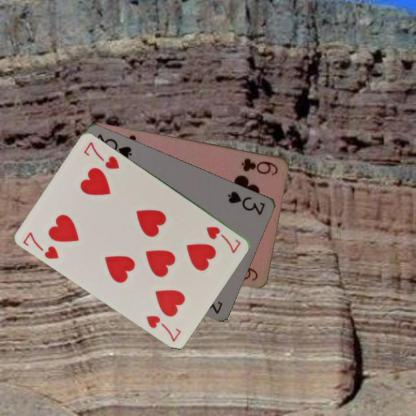3s: (225, 188, 267, 216)
6c: (238, 155, 280, 176)
7h: (20, 228, 61, 260), (203, 223, 243, 254)
